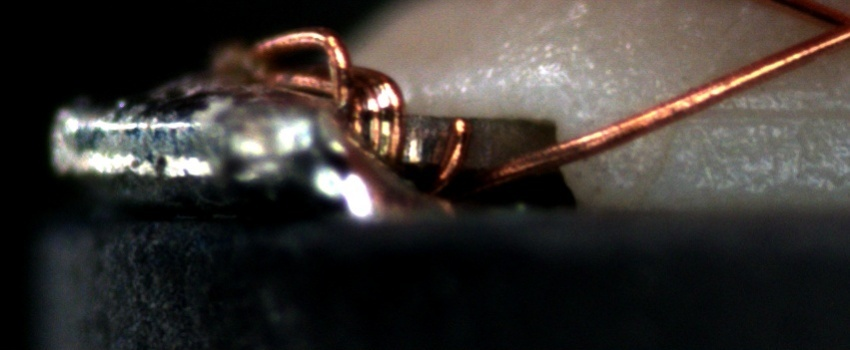CL: (797, 2, 850, 58)
DL: (690, 87, 849, 143)
TE: (235, 15, 476, 192)
